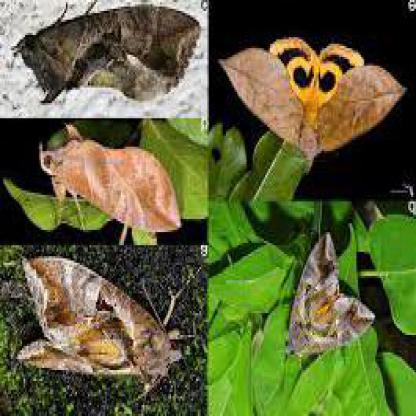fruit sucking moth: (218, 39, 405, 162), (285, 236, 376, 361)
